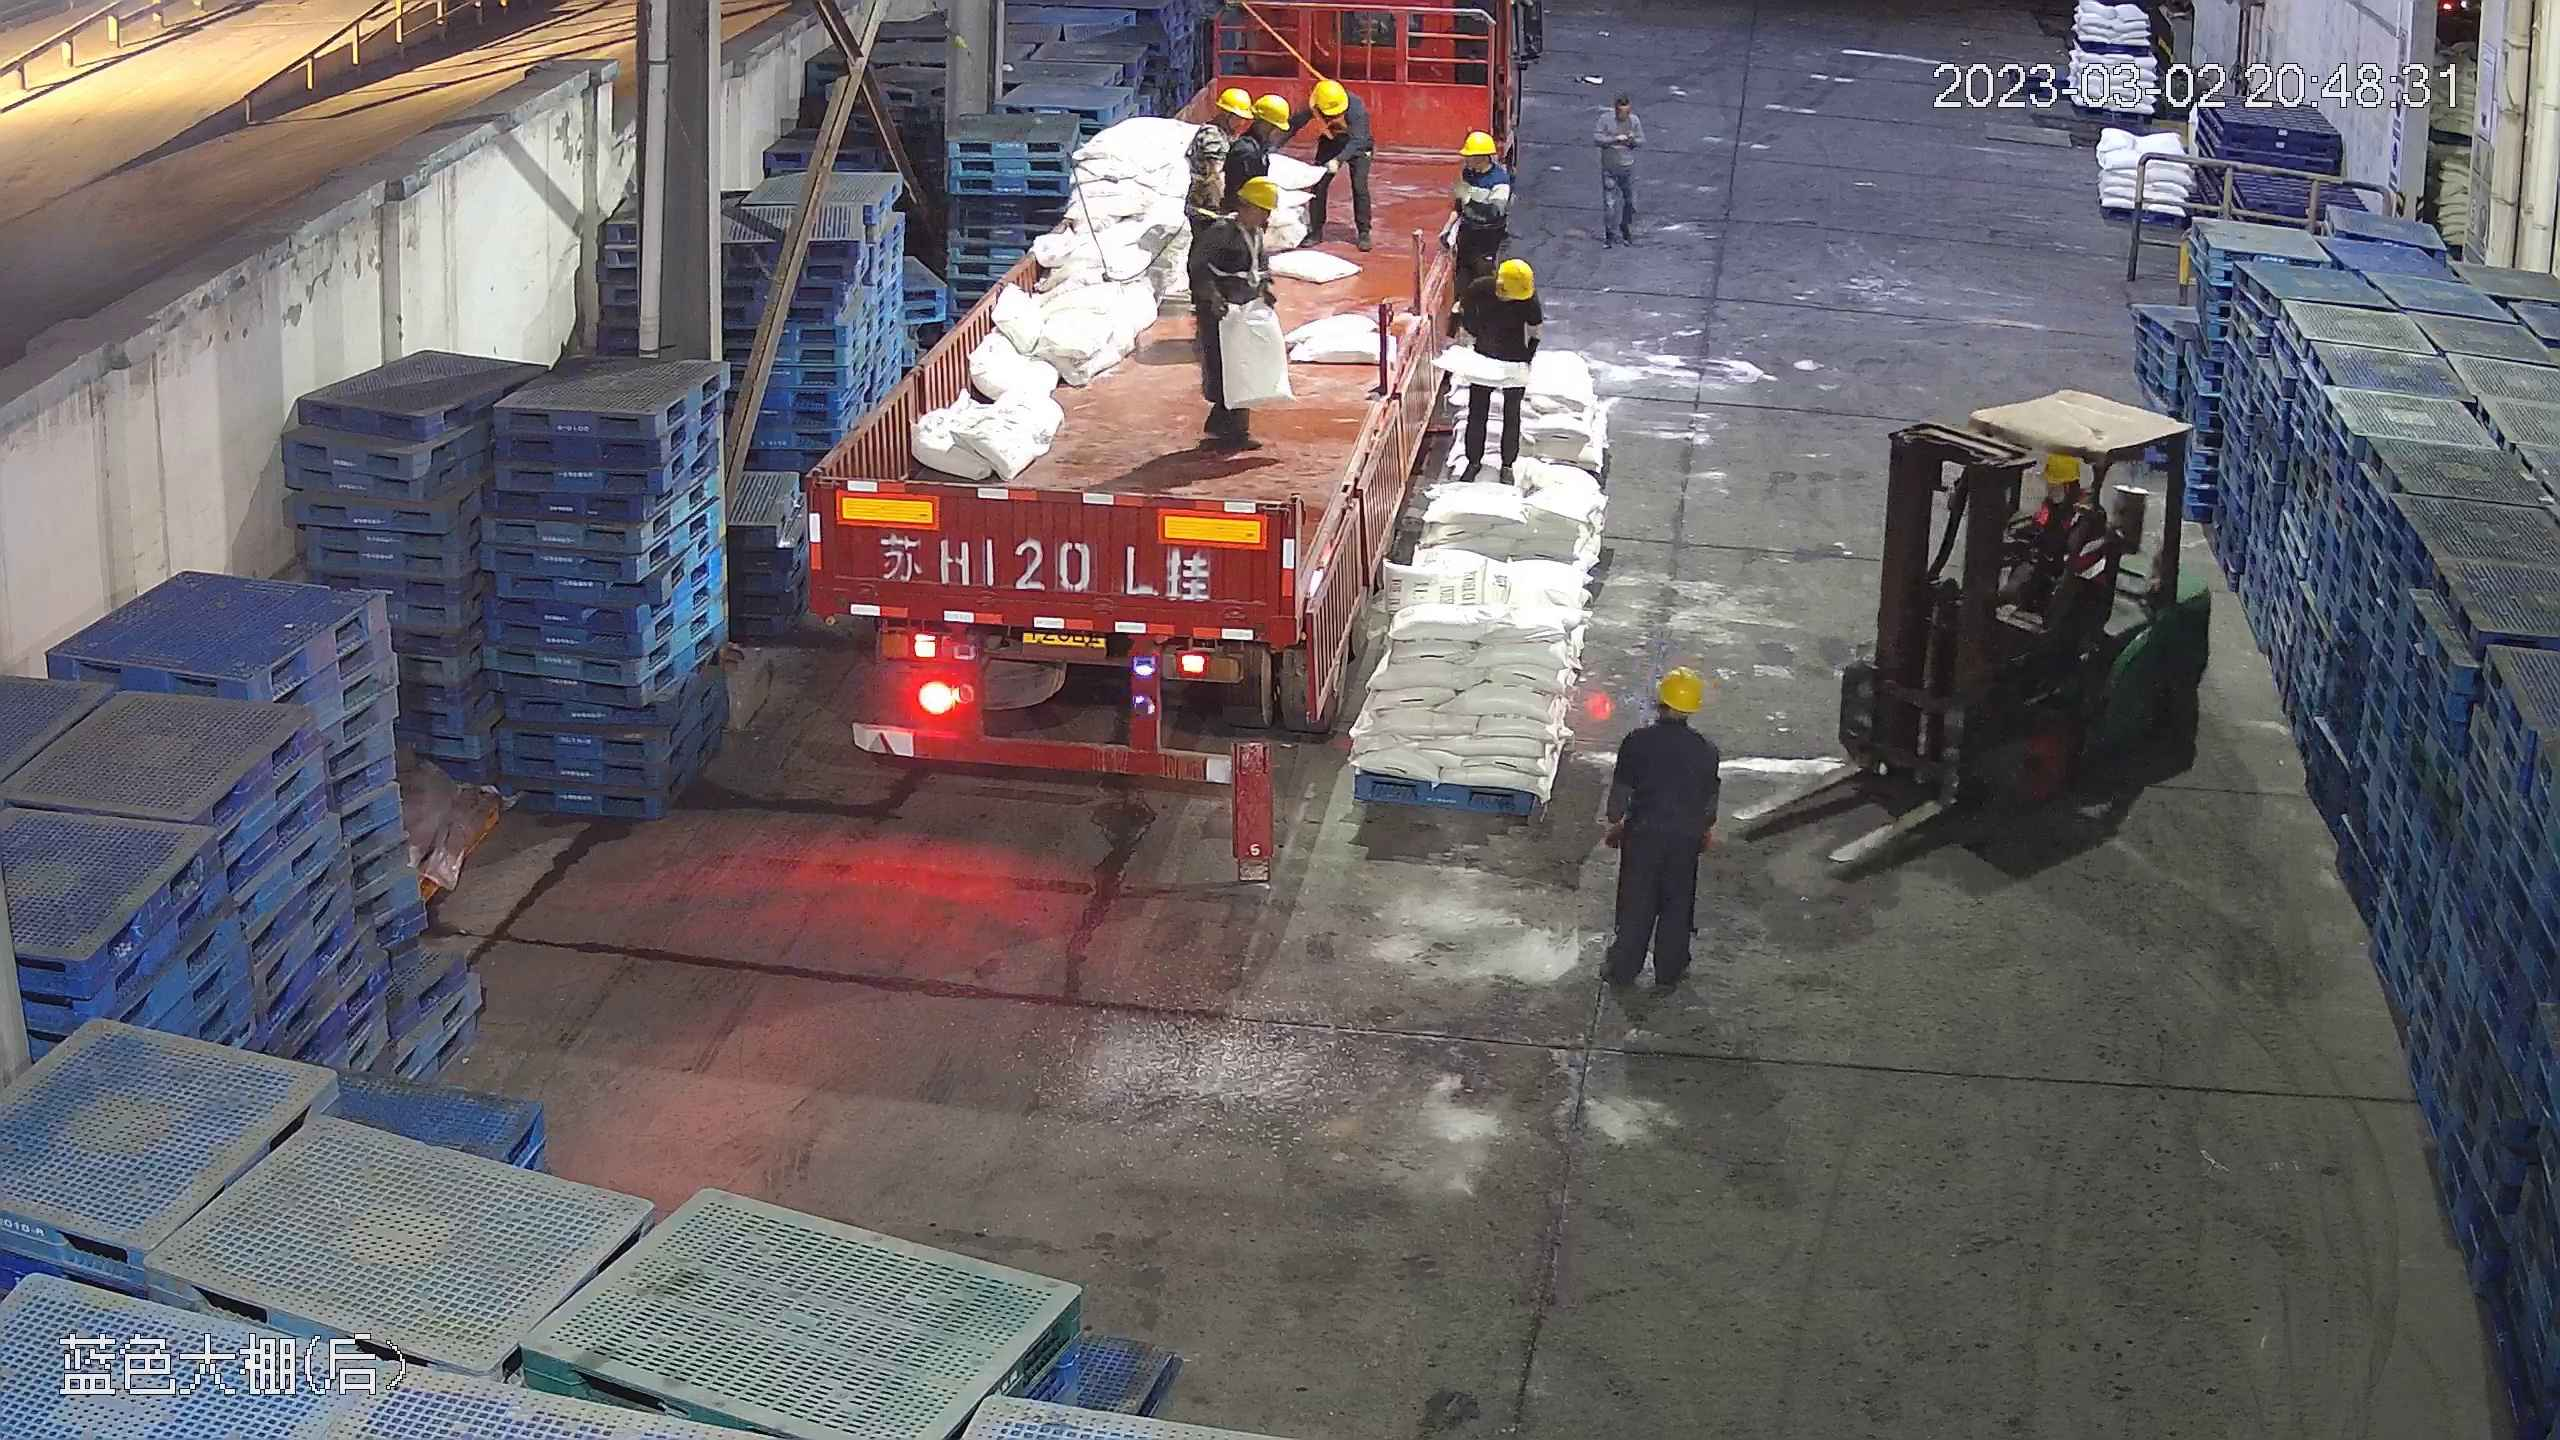belt: (1201, 209, 1272, 289), (1179, 121, 1218, 184), (1307, 96, 1352, 142), (1244, 134, 1269, 165)
head: (1617, 666, 1719, 780), (2022, 448, 2106, 545), (1459, 245, 1533, 345), (1187, 89, 1277, 170), (1297, 78, 1364, 152), (1454, 131, 1516, 209), (1601, 98, 1641, 143)
helmet: (1655, 667, 1705, 713), (1243, 93, 1292, 132), (2039, 450, 2083, 485), (1314, 78, 1351, 117), (1493, 258, 1534, 294), (1460, 129, 1498, 155)
people: (1592, 667, 1721, 997), (1191, 168, 1288, 446), (1452, 258, 1540, 482), (1286, 77, 1378, 247), (1451, 126, 1512, 287), (1592, 96, 1646, 244)
truck: (805, 30, 1458, 783)
